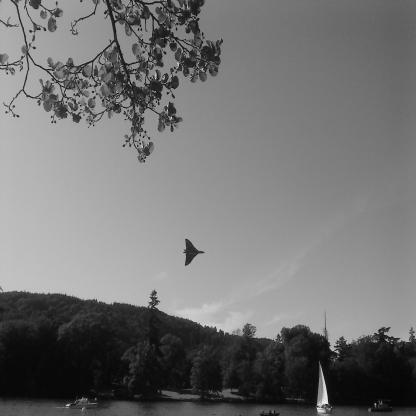Vulcan: (184, 240, 207, 267)
